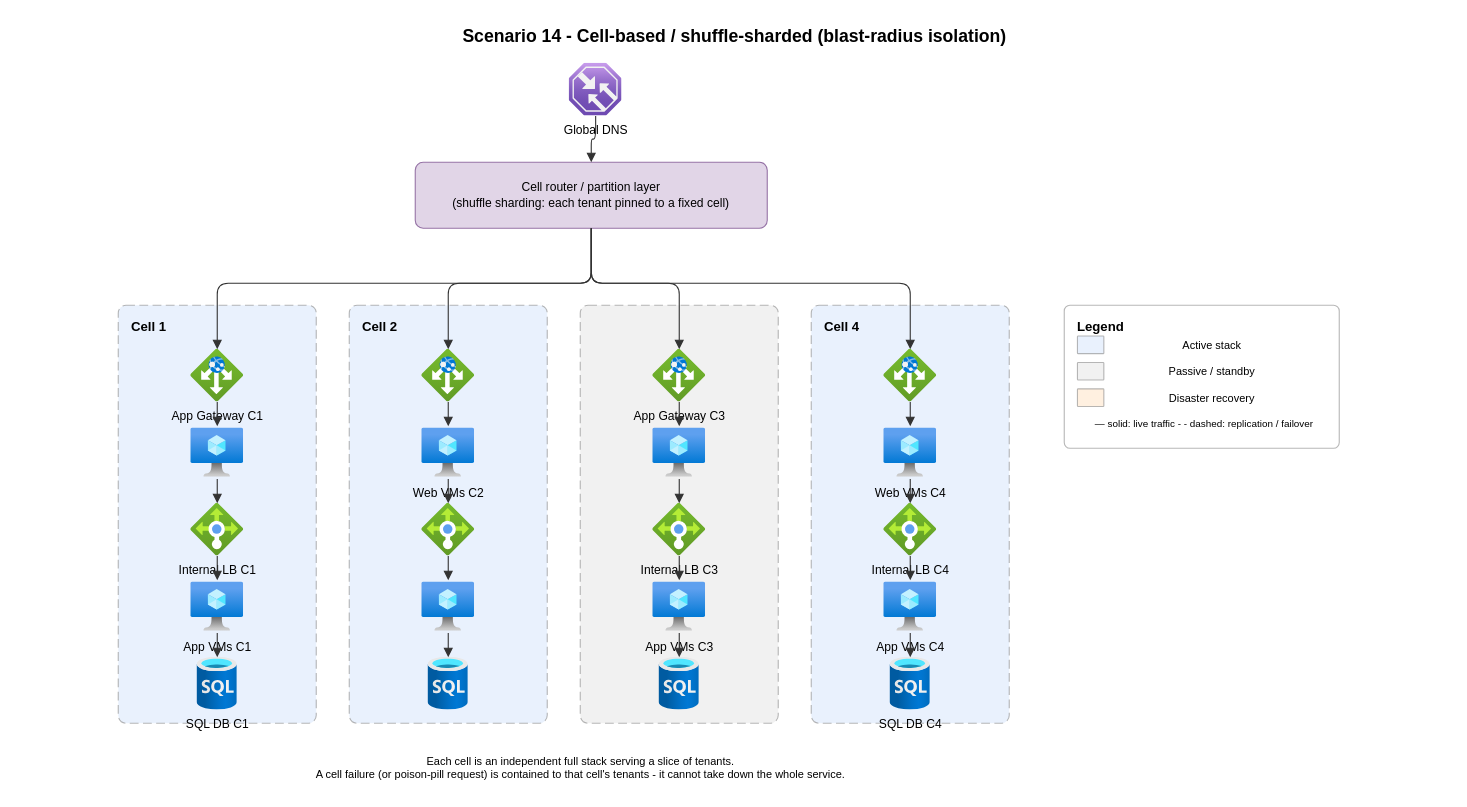
The diagram is 1467 pixels wide and 807 high, and some of its shapes have lost their labels. The box of each missing label's shape, as (x1, y1, x2, y2) in pixels:
App Gateway C2: (421, 349, 474, 402)
App Gateway C4: (883, 349, 936, 402)
App VMs C2: (421, 580, 474, 632)
Cell 3 (failed): (579, 304, 778, 723)
Internal LB C2: (421, 503, 474, 556)
SQL DB C2: (421, 657, 474, 710)
SQL DB C3: (652, 657, 705, 710)
Web VMs C1: (190, 426, 243, 479)
Web VMs C3: (652, 426, 705, 479)
